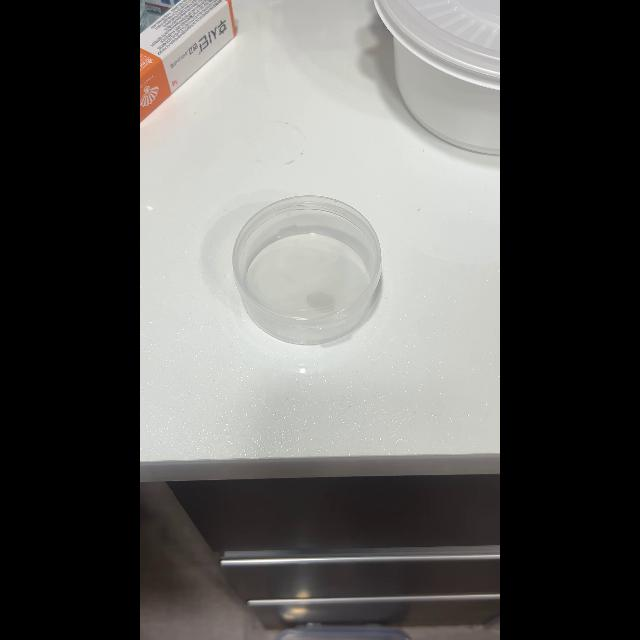clean: (230, 194, 382, 342)
